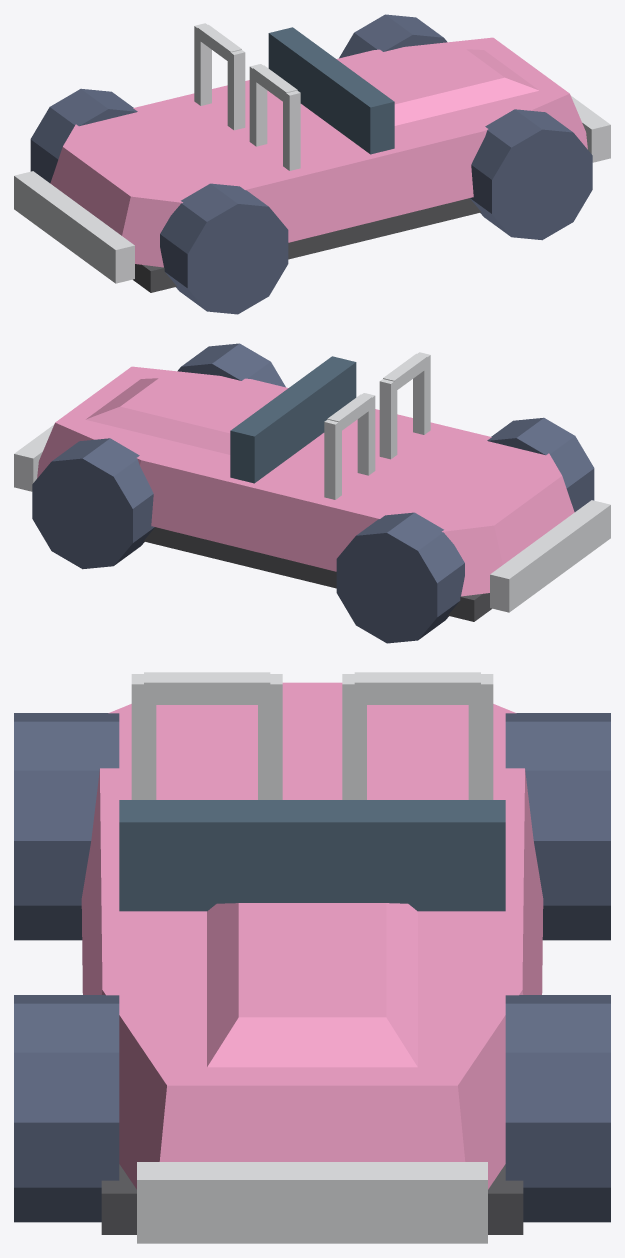
Rendered from car_roadster.glb.
3 views of the same model, one above another, from view 1: azimuth 30°, elevation 25°; view 2: azimuth 150°, elevation 25°; view 3: azimuth 270°, elevation 25° (orthographic). The views are drawn at different scales.
Bounding box in the file's own units: 0.312 × 0.1055 × 0.17.
